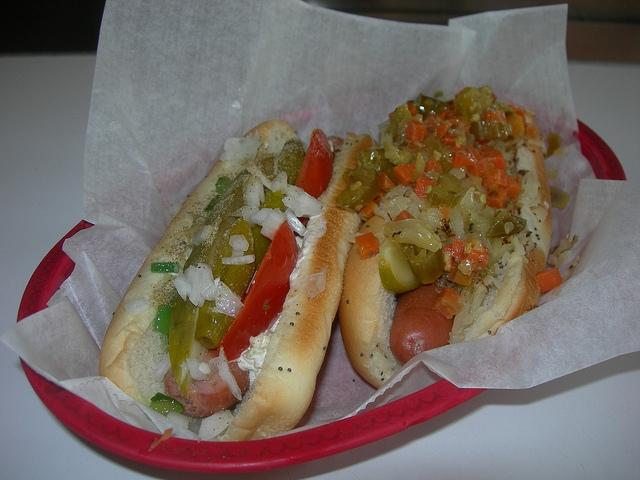onion: (219, 129, 263, 169), (218, 346, 242, 401), (198, 410, 234, 442), (281, 192, 323, 218), (216, 280, 243, 318), (300, 264, 328, 300), (448, 310, 473, 344), (245, 162, 272, 191), (184, 265, 203, 306), (187, 358, 218, 380), (246, 174, 266, 208), (378, 184, 412, 204), (262, 208, 286, 236), (284, 209, 308, 236), (449, 204, 465, 240), (124, 296, 150, 318), (458, 186, 478, 214), (192, 224, 215, 246), (198, 276, 218, 300), (470, 286, 486, 316), (422, 208, 443, 229), (228, 234, 250, 252), (172, 278, 188, 301), (266, 134, 284, 154), (222, 254, 254, 265), (270, 173, 286, 192), (342, 232, 364, 244), (490, 236, 502, 258), (485, 276, 503, 290), (448, 166, 466, 179), (514, 236, 526, 255), (472, 224, 491, 236), (398, 197, 414, 211), (409, 202, 422, 218), (499, 252, 510, 266), (183, 211, 194, 222), (186, 280, 192, 298), (232, 248, 244, 256), (494, 263, 500, 269)
